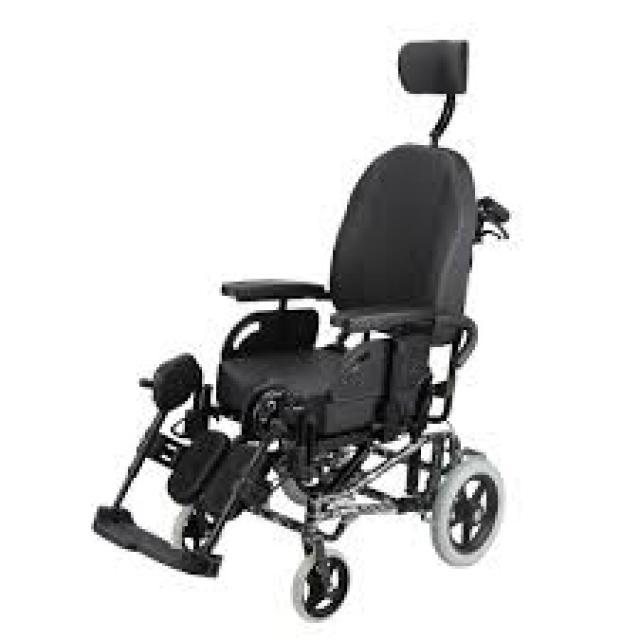wheelchair: (59, 31, 530, 637)
